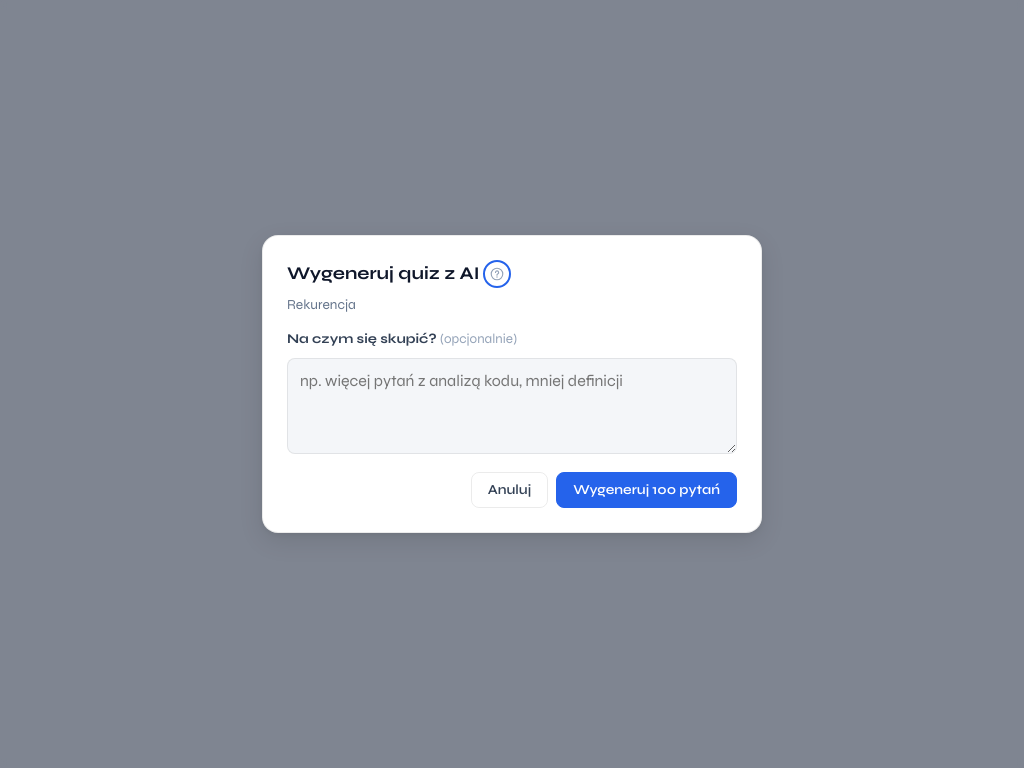
Test: GenerateQuizModal › advances progress text over time
The width and height of the screenshot is (1024, 768).
Step 1. Click the button "Wygeneruj 100 pytań" → coordinates (647, 490), box [556, 472, 737, 508]
Wait 25000 ms
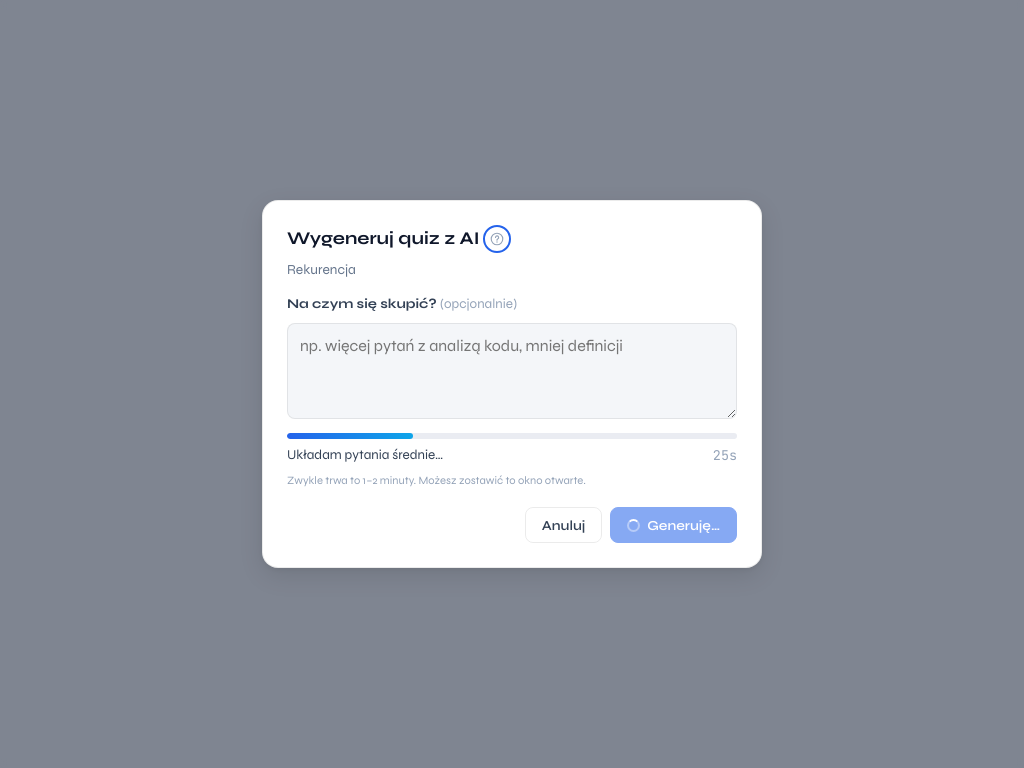
Now the message shows "Układam pytania średnie…", box [287, 447, 443, 463]
Now the text "25s" is shown, box [713, 445, 737, 466]
